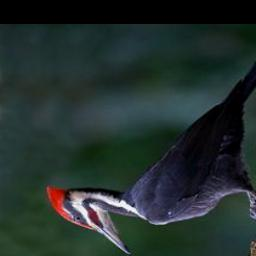Woodpecker: (46, 27, 256, 255)
